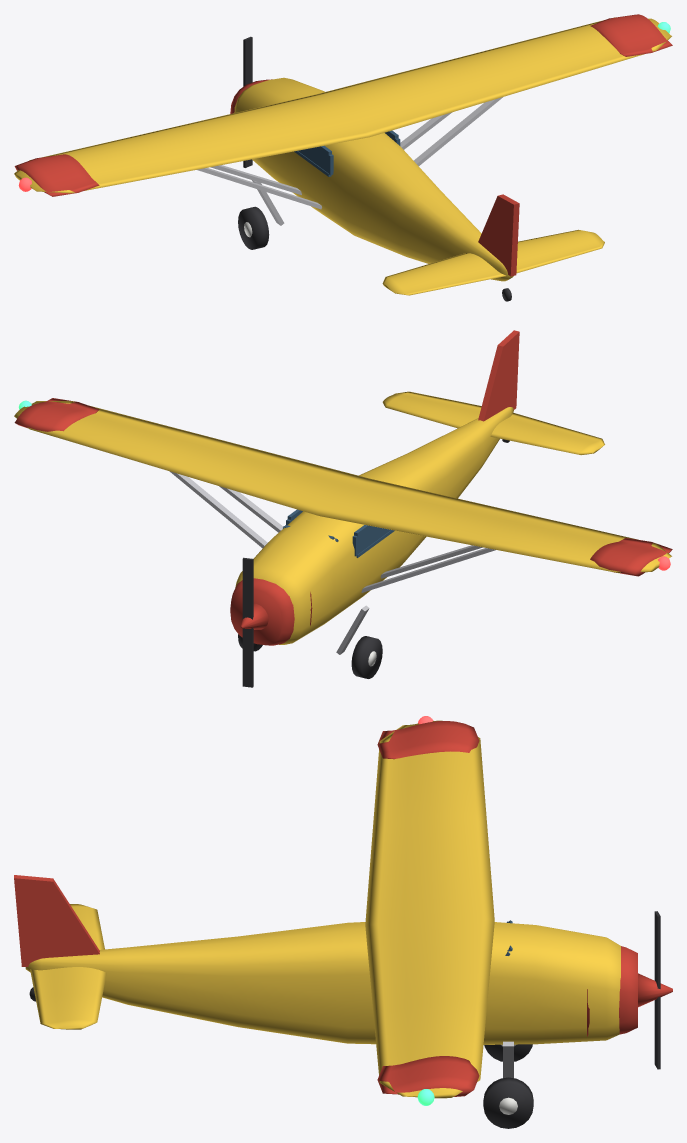
Rendered from mailplane.glb.
The picture shows the model from 3 angles, top to bottom: view 1: azimuth 30°, elevation 25°; view 2: azimuth 150°, elevation 25°; view 3: azimuth 270°, elevation 25°; orthographic projection. The views are drawn at different scales.
Visible parts, largest first — view 1: wing, fuselage, stabiliser, fin, wingtip_band_L, wingtip_band_R, wheel_L, strut_R_r, strut_L_r, window_L, strut_L_f, blade_0 (+1 smaller); view 2: wing, fuselage, stabiliser, cowling, fin, wingtip_band_L, wingtip_band_R, wheel_L, strut_R_f, strut_L_f, window_L, blade_0 (+3 smaller); view 3: fuselage, wing, fin, stabiliser, wingtip_band_R, wingtip_band_L, wheel_R, cowling, spinner.
Part boxes in pixels (x1,y1,x2,y2): wing: (14,17,671,193); fuselage: (234,77,513,281); stabiliser: (382,229,604,295); fin: (478,194,519,276); wingtip_band_L: (14,154,99,196); wingtip_band_R: (590,14,672,56); wheel_L: (238,206,269,249); strut_R_r: (413,97,502,165); strut_L_r: (197,168,321,209); window_L: (294,145,333,176); strut_L_f: (210,165,301,194); blade_0: (243,36,252,86); wing: (14,401,671,573); fuselage: (235,407,513,644); stabiliser: (382,391,604,455); cowling: (230,578,312,645); fin: (478,330,519,421); wingtip_band_L: (590,538,672,576); wingtip_band_R: (14,398,99,431); wheel_L: (351,636,382,678); strut_R_f: (170,471,267,548); strut_L_f: (361,548,495,592); window_L: (352,525,394,557); blade_0: (242,557,253,619); fuselage: (25,922,620,1044); wing: (365,720,494,1098); fin: (14,875,99,966); stabiliser: (30,904,106,1029); wingtip_band_R: (377,1056,479,1096); wingtip_band_L: (377,721,479,759); wheel_R: (483,1077,533,1128); cowling: (587,946,637,1036); spinner: (638,973,672,1007).
Size of the model in its own units: 11.45 by 3.04 by 8.4.
